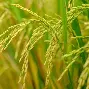crops: (0, 0, 87, 86)
